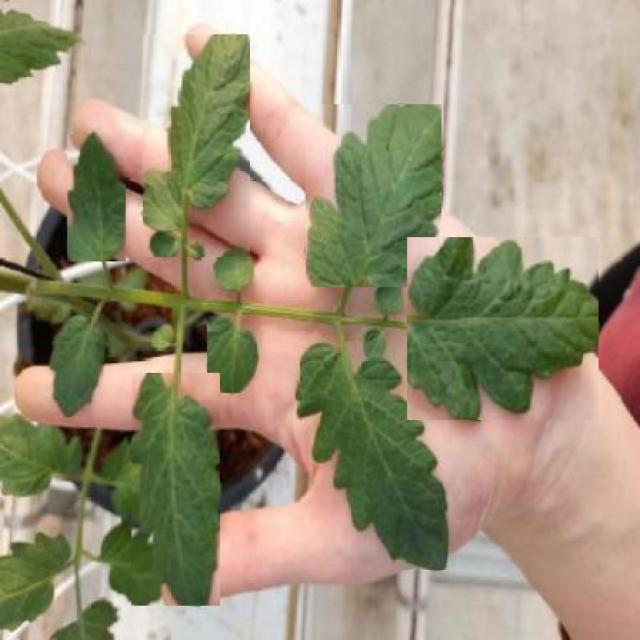Healthy: (408, 238, 599, 420), (295, 343, 448, 570), (306, 104, 441, 287), (143, 35, 250, 258), (131, 373, 220, 606), (67, 134, 126, 262), (50, 314, 104, 416), (208, 316, 259, 393)
